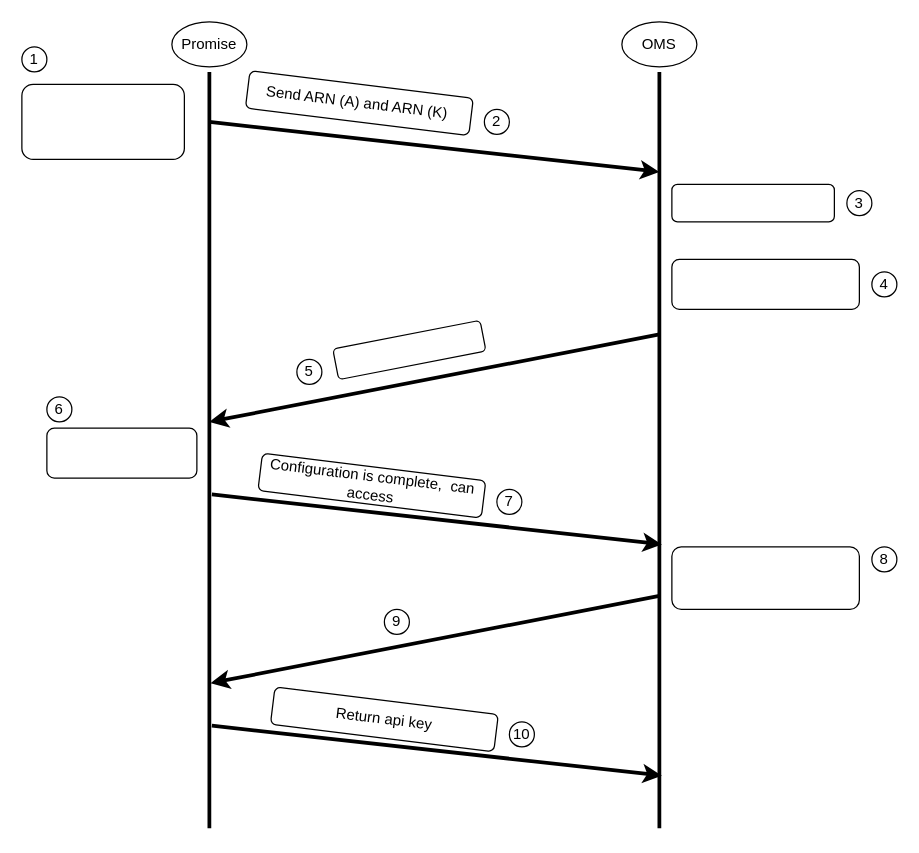
Some shapes in this 919 by 853 pixel diagram are drawn without their labels. The centre of each missing label's shape, as x and y in pixels:
"Add role (R) ARN" belongs at [121,452].
"Create Secret ARN (A) and KMS ARN (K)" belongs at [102,121].
"OMS adds ARN (A) and ARN (B) to role (R) policy" belongs at [765,283].
"OMS creates a role (R)" belongs at [752,202].
"OMS run application call Promise secret with role (R) on EC2 or ECS" belongs at [765,577].
"Send role (R) ARN" belongs at [408,349].
